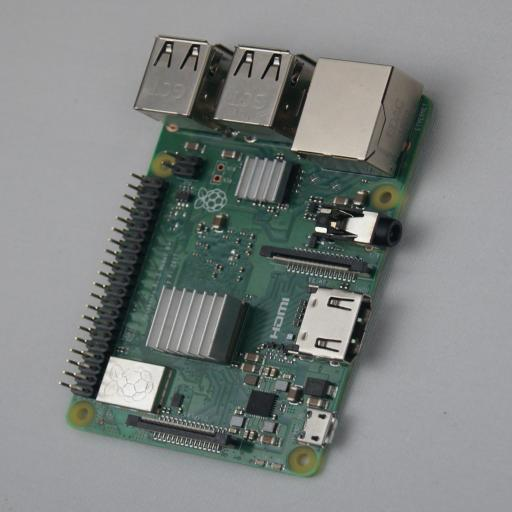Raspberry Pi 3 B-: (61, 34, 444, 478)
